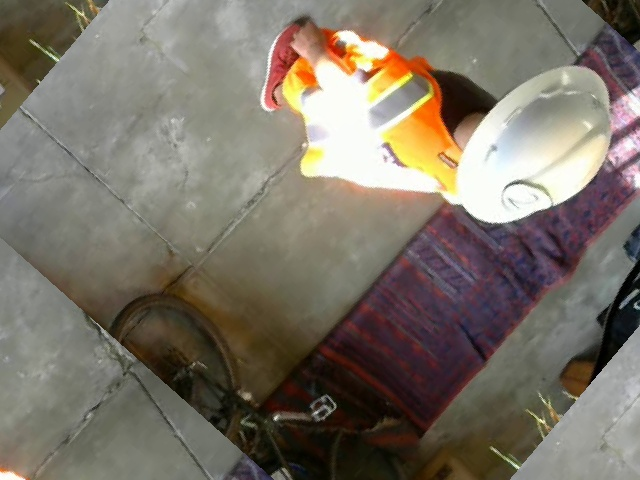two: (494, 171, 553, 228)
